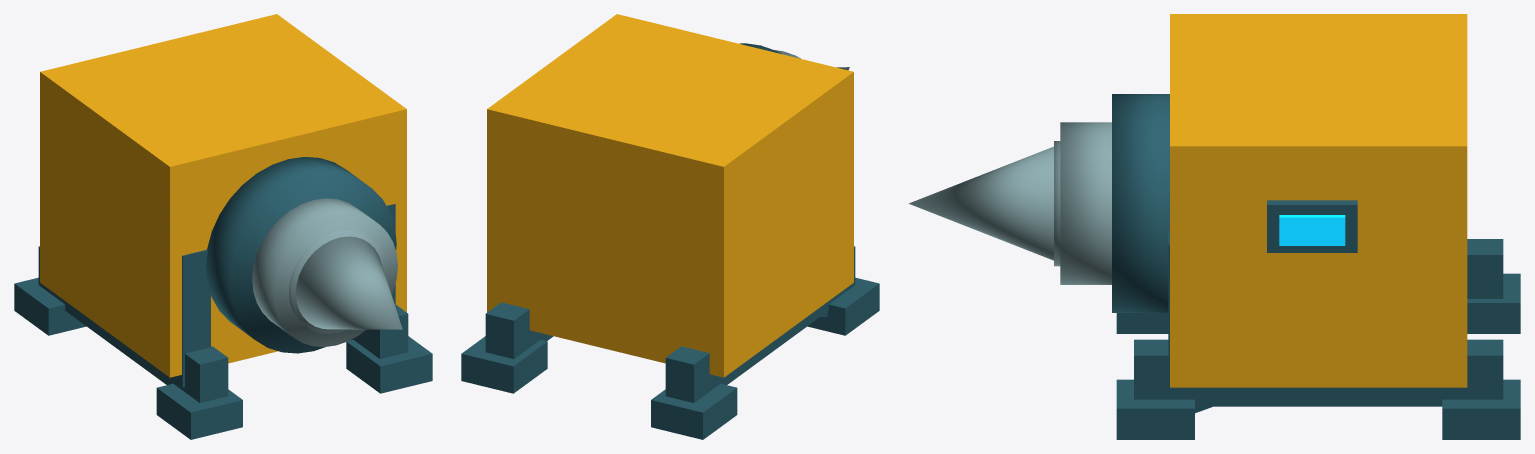
The model's file is drill.glb.
The picture shows the model from 3 angles, left to right: view 1: azimuth 30°, elevation 25°; view 2: azimuth 150°, elevation 25°; view 3: azimuth 270°, elevation 25°; orthographic projection. The views are drawn at different scales.
Visible parts, largest first — view 1: Drill housing, Drill collar, Drill spindle, Drill bit, Drill support, Drill foot, Drill foot.002, Front upright, Drill foot.001, Drill support.001, Drill metal ring.001; view 2: Drill housing, Drill support, Drill foot.001, Drill foot.003, Drill support.001, Drill foot; view 3: Drill housing, Drill collar, Drill support.001, Drill spindle, Drill bit, Drill foot.003, Drill foot.002, Drill indicator bezel, Drill foot.001, Drill support, Drill indicator, Drill foot (+2 smaller).
Boxes of the visible parts, x1,y1,x2,y2 form: Drill housing: (40, 14, 406, 377); Drill collar: (206, 157, 396, 353); Drill spindle: (252, 198, 397, 346); Drill bit: (296, 236, 402, 329); Drill support: (38, 246, 228, 402); Drill foot: (156, 383, 242, 439); Drill foot.002: (346, 336, 432, 393); Front upright: (166, 249, 210, 387); Drill foot.001: (14, 277, 86, 335); Drill support.001: (350, 304, 408, 358); Drill metal ring.001: (289, 230, 386, 333); Drill housing: (487, 14, 853, 377); Drill support: (665, 246, 855, 402); Drill foot.001: (651, 383, 737, 439); Drill foot.003: (461, 336, 547, 393); Drill support.001: (485, 302, 553, 358); Drill foot: (807, 277, 879, 335); Drill housing: (1170, 14, 1467, 387); Drill collar: (1112, 94, 1169, 312); Drill support.001: (1134, 339, 1503, 406); Drill spindle: (1060, 122, 1111, 284); Drill bit: (909, 146, 1053, 260); Drill foot.003: (1442, 379, 1520, 439); Drill foot.002: (1116, 379, 1194, 439); Drill indicator bezel: (1267, 200, 1357, 252); Drill foot.001: (1467, 273, 1520, 333); Drill support: (1467, 239, 1503, 298); Drill indicator: (1279, 215, 1345, 245); Drill foot: (1116, 313, 1168, 333).
Size of the model in its own units: 1.07 by 1.03 by 1.96.
